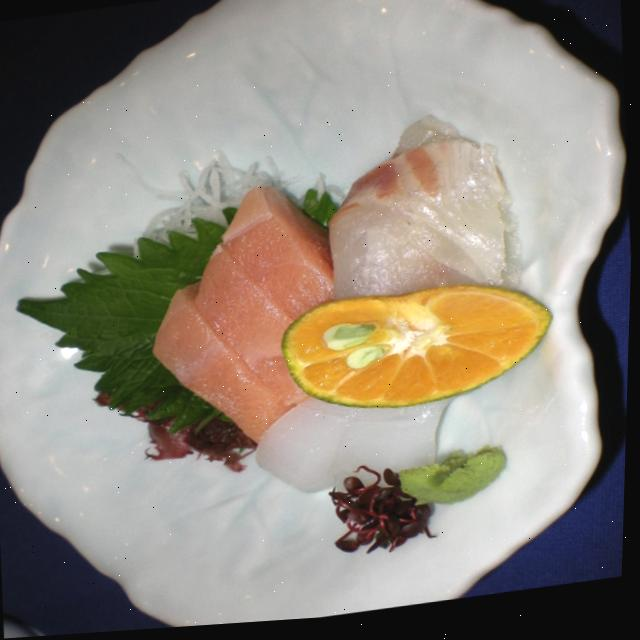刺身生食: (61, 80, 603, 579)
